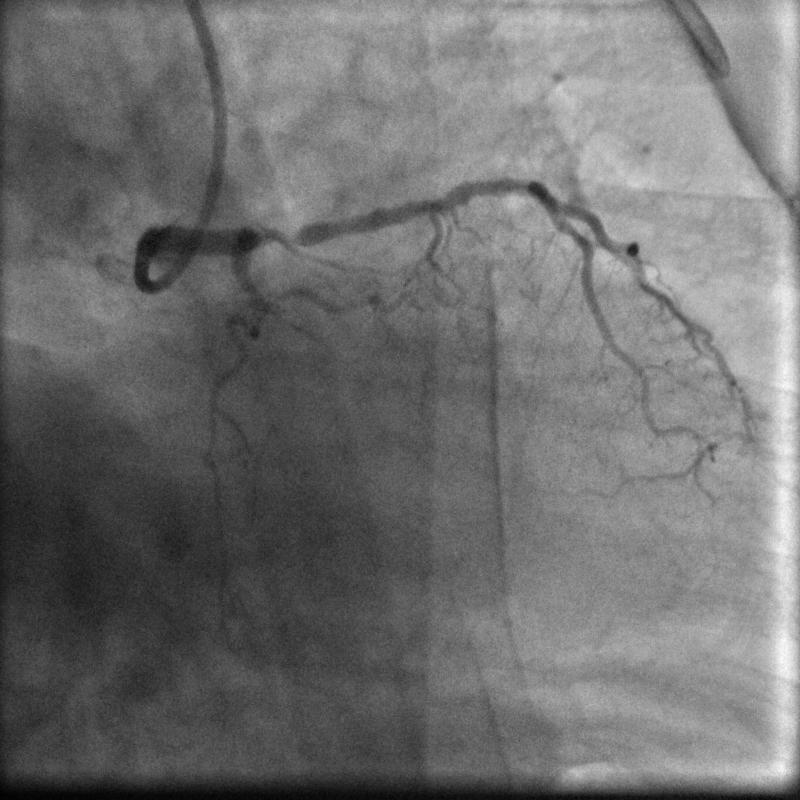Stenosis: (255, 217, 311, 250)
